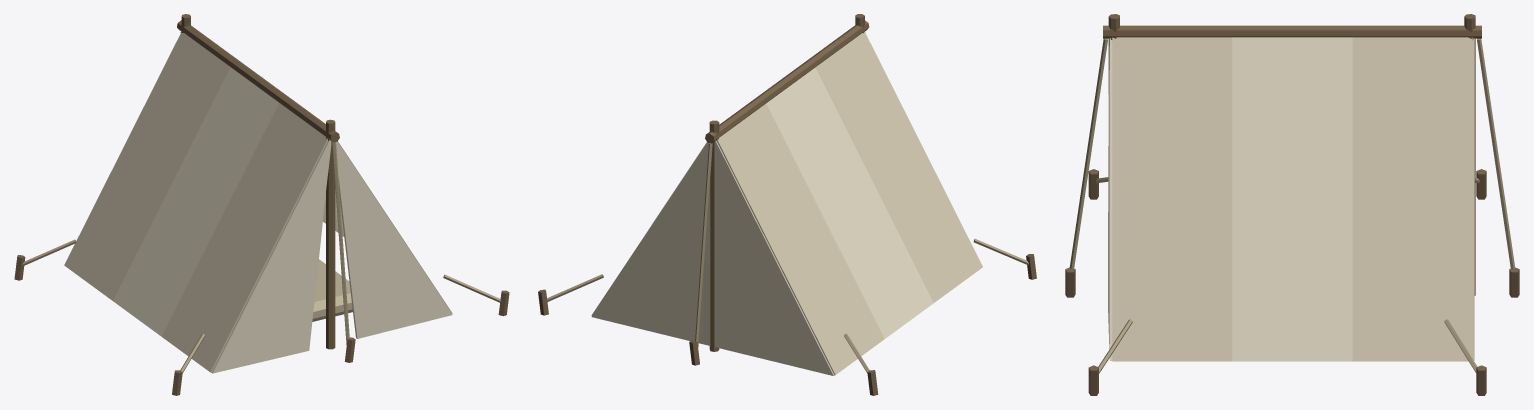
File: tent_small.glb
3 views of the same model, side by side, from view 1: azimuth 30°, elevation 25°; view 2: azimuth 150°, elevation 25°; view 3: azimuth 270°, elevation 25° (orthographic). The views are drawn at different scales.
Visible parts, largest first — view 1: tent_small_camp_canvas_light, tent_small_camp_canvas, tent_small_oak_dark, tent_small_camp_rope, tent_small_camp_sack; view 2: tent_small_camp_canvas, tent_small_camp_canvas_light, tent_small_oak_dark, tent_small_camp_rope; view 3: tent_small_camp_canvas, tent_small_camp_canvas_light, tent_small_oak_dark, tent_small_camp_rope.
Boxes of the visible parts, x1=… form: tent_small_camp_canvas_light: x1=113, y1=67, x2=452, y2=373; tent_small_camp_canvas: x1=64, y1=32, x2=452, y2=372; tent_small_oak_dark: x1=14, y1=14, x2=509, y2=395; tent_small_camp_rope: x1=22, y1=31, x2=501, y2=372; tent_small_camp_sack: x1=312, y1=259, x2=352, y2=321; tent_small_camp_canvas: x1=591, y1=31, x2=982, y2=375; tent_small_camp_canvas_light: x1=766, y1=33, x2=982, y2=338; tent_small_oak_dark: x1=538, y1=14, x2=1036, y2=395; tent_small_camp_rope: x1=546, y1=32, x2=1028, y2=373; tent_small_camp_canvas: x1=1112, y1=37, x2=1474, y2=361; tent_small_camp_canvas_light: x1=1108, y1=37, x2=1352, y2=361; tent_small_oak_dark: x1=1065, y1=14, x2=1519, y2=395; tent_small_camp_rope: x1=1069, y1=38, x2=1515, y2=373.
Bounding box in the file's own units: 3.08 × 1.99 × 2.93.
